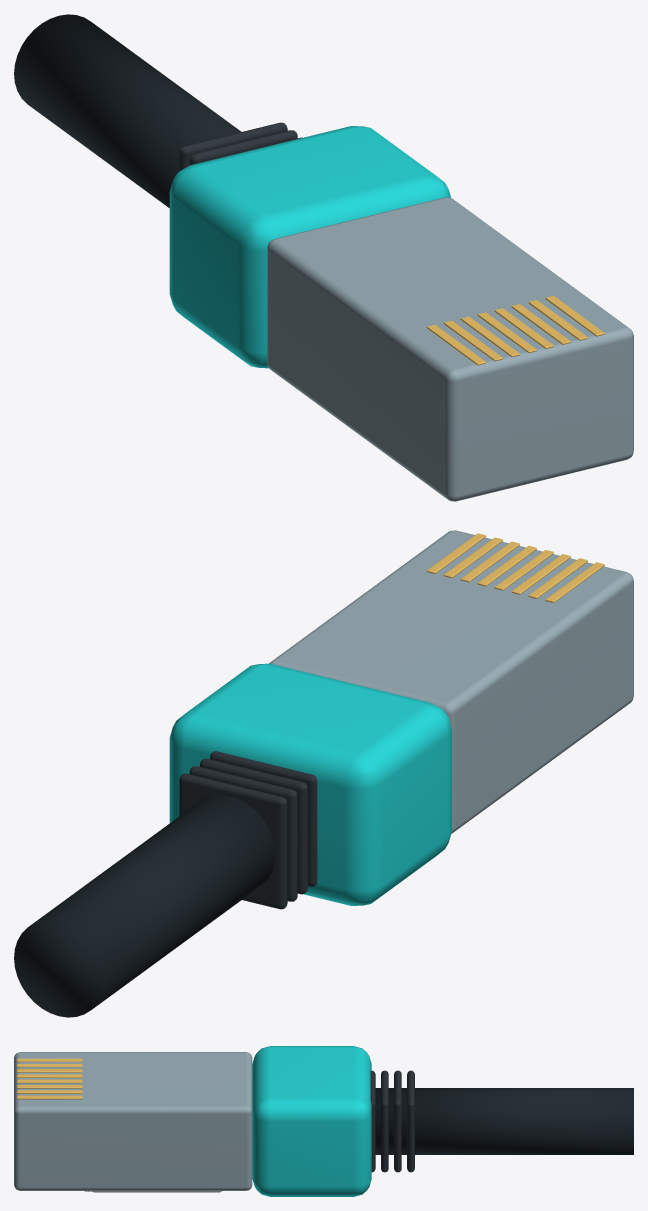
The model's file is RJ45_plug.glb.
3 renders of one model, top to bottom at view 1: azimuth 30°, elevation 25°; view 2: azimuth 150°, elevation 25°; view 3: azimuth 270°, elevation 25°, orthographic. The views are drawn at different scales.
Visible parts, largest first — view 1: RJ45 clear-look housing, Protective boot, Flexible cable stub.002, Strain relief rib.011, Strain relief rib.010; view 2: RJ45 clear-look housing, Protective boot, Flexible cable stub.002, Strain relief rib.011, Strain relief rib.010, Strain relief rib.009, Strain relief rib.008; view 3: RJ45 clear-look housing, Protective boot, Flexible cable stub.002, Strain relief rib.010, Strain relief rib.011, Strain relief rib.009, Strain relief rib.008, Ethernet gold contact.004, Ethernet gold contact.007, Ethernet gold contact, Ethernet gold contact.002, Ethernet gold contact.003 (+4 smaller).
Part boxes in pixels (box(x1,y1,x2,y2)): RJ45 clear-look housing: box(267, 197, 633, 501); Protective boot: box(169, 126, 450, 368); Flexible cable stub.002: box(14, 14, 241, 207); Strain relief rib.011: box(179, 122, 287, 171); Strain relief rib.010: box(189, 130, 297, 165); RJ45 clear-look housing: box(269, 530, 633, 833); Protective boot: box(169, 663, 451, 905); Flexible cable stub.002: box(14, 795, 275, 1017); Strain relief rib.011: box(179, 773, 287, 909); Strain relief rib.010: box(189, 766, 297, 901); Strain relief rib.009: box(200, 758, 307, 894); Strain relief rib.008: box(210, 751, 317, 886); RJ45 clear-look housing: box(14, 1052, 252, 1190); Protective boot: box(252, 1046, 371, 1196); Flexible cable stub.002: box(375, 1088, 633, 1154); Strain relief rib.010: box(394, 1070, 401, 1172); Strain relief rib.011: box(407, 1070, 414, 1172); Strain relief rib.009: box(381, 1070, 388, 1172); Strain relief rib.008: box(370, 1070, 375, 1172); Ethernet gold contact.004: box(17, 1079, 82, 1083); Ethernet gold contact.007: box(17, 1095, 82, 1099); Ethernet gold contact: box(17, 1058, 82, 1062); Ethernet gold contact.002: box(17, 1069, 82, 1072); Ethernet gold contact.003: box(17, 1074, 82, 1077).
Size of the model in its own units: 0.013 by 0.01 by 0.052.
